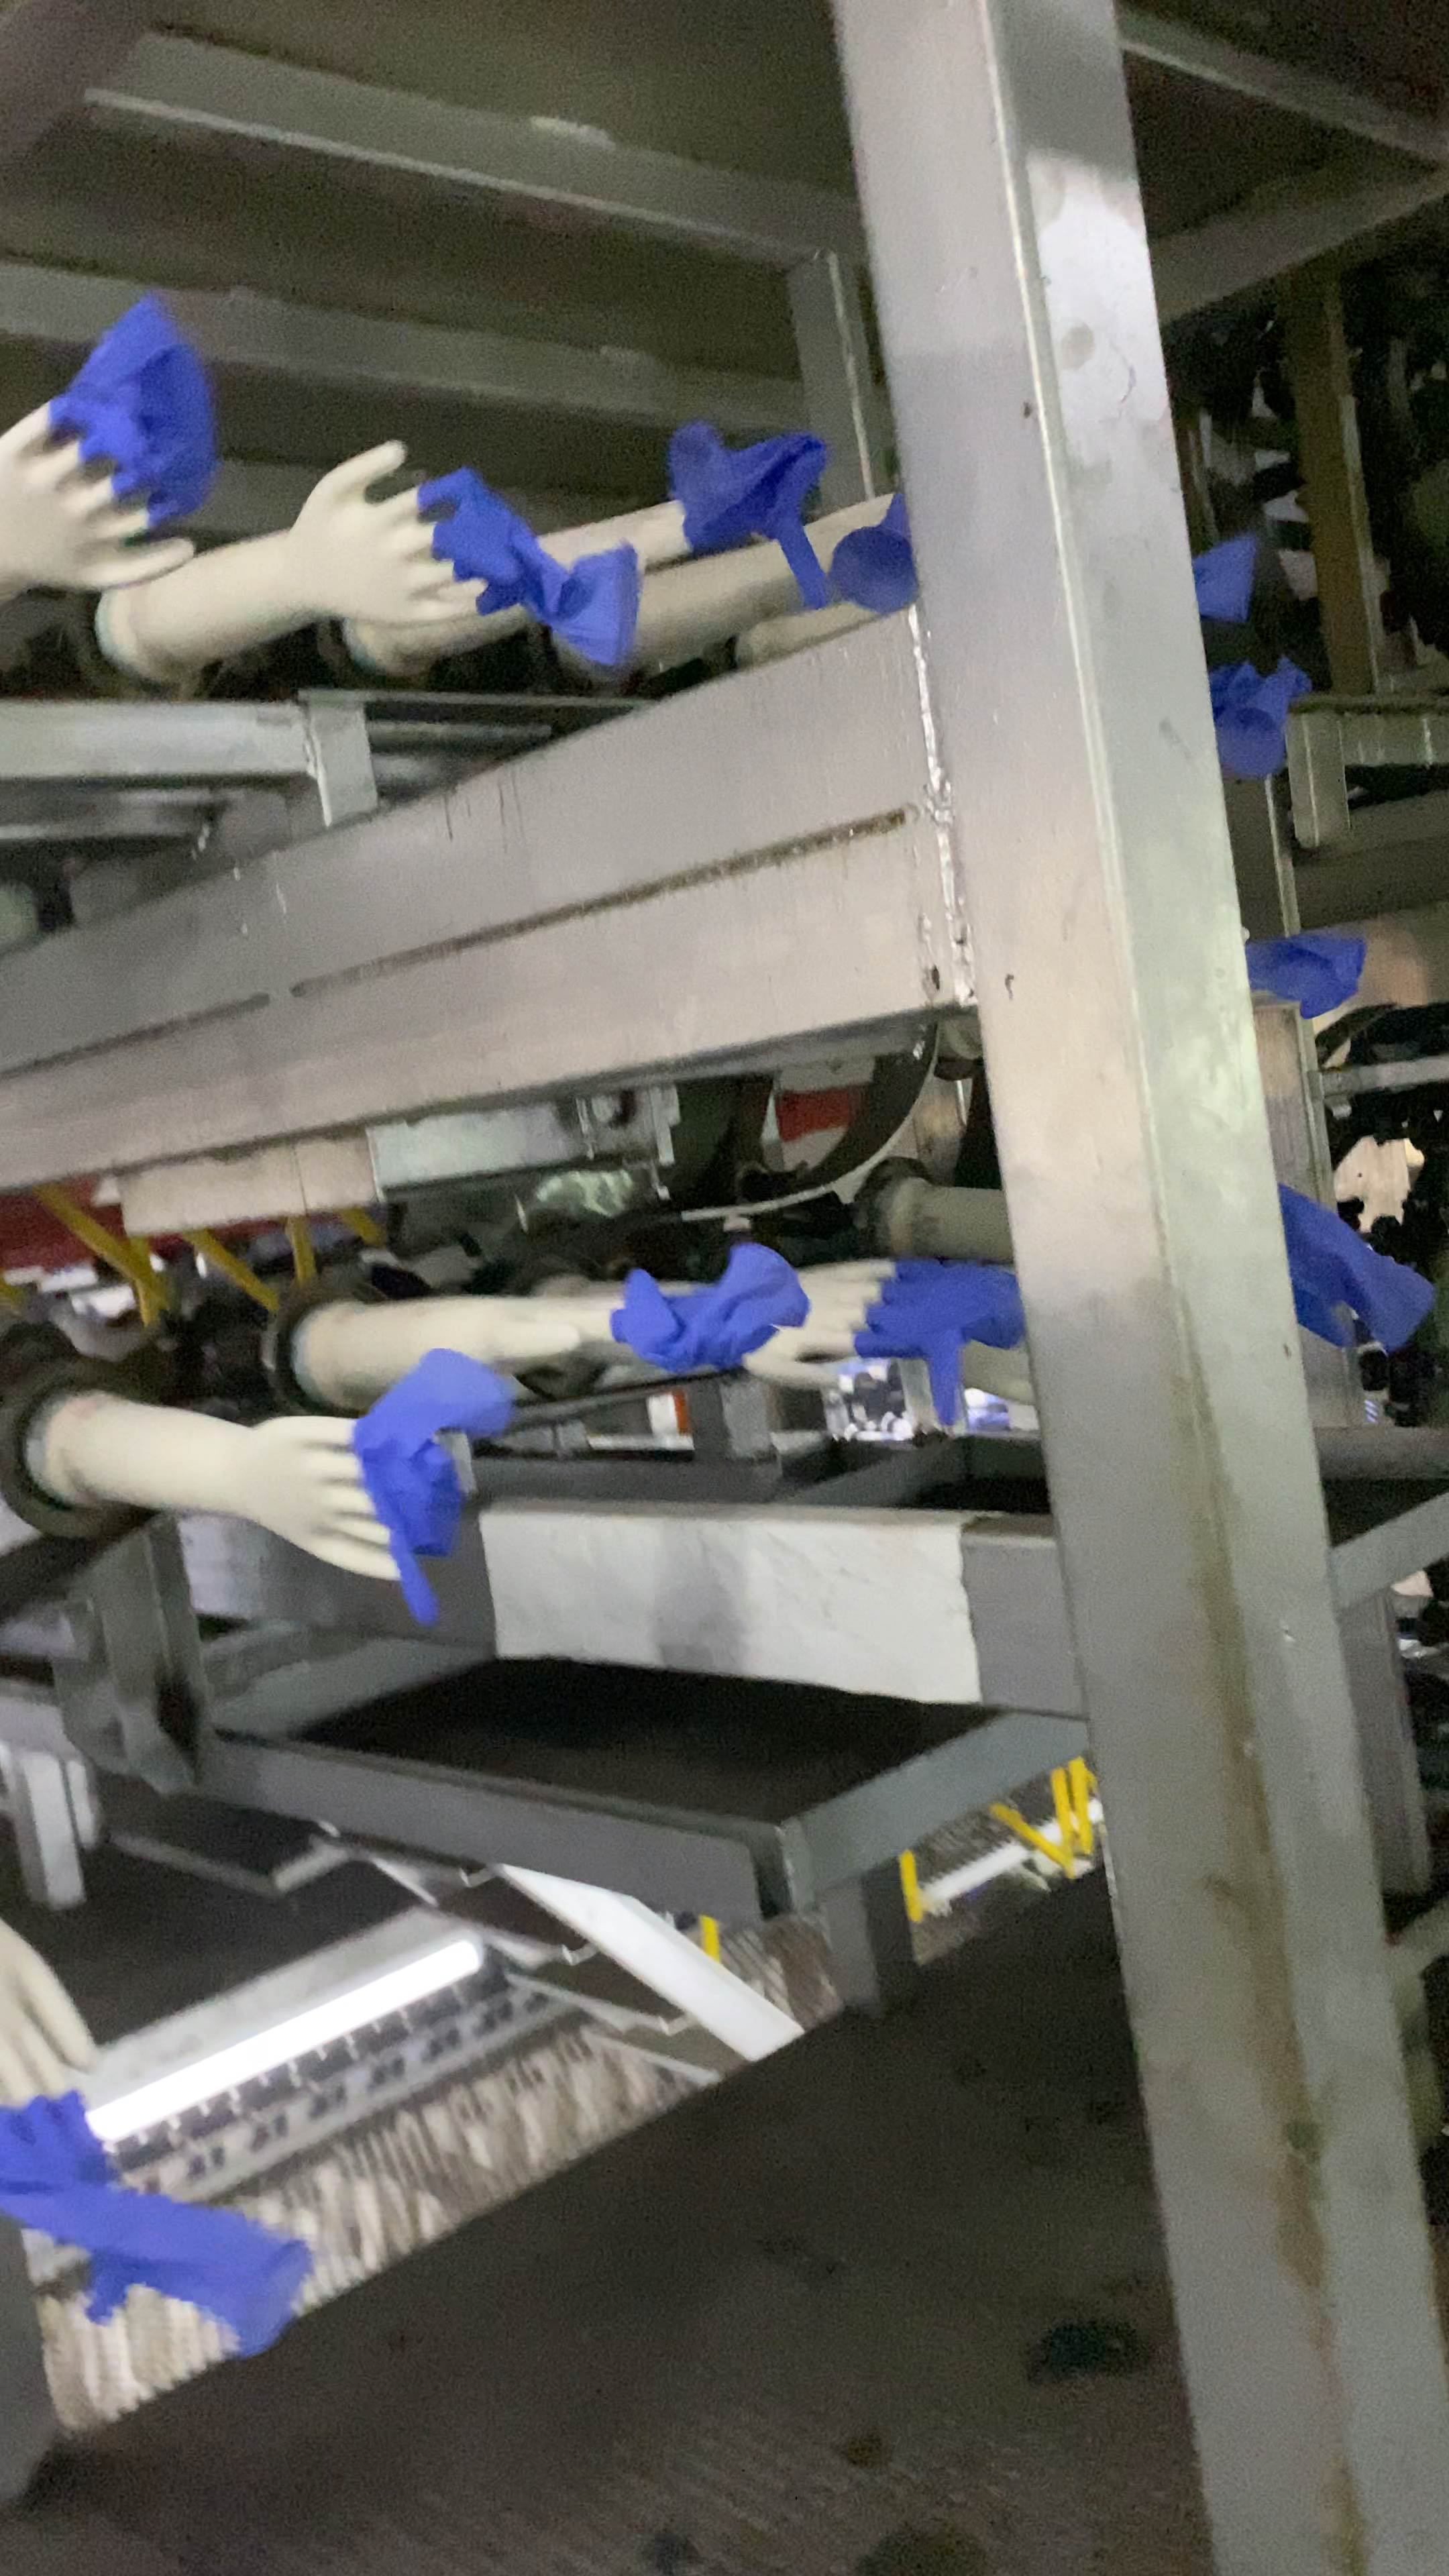glove: (0, 2091, 308, 2353), (414, 467, 639, 669), (356, 1350, 508, 1621), (51, 308, 211, 515), (669, 421, 824, 602), (855, 1258, 1024, 1421), (1274, 1182, 1437, 1346), (612, 1244, 809, 1371), (1201, 656, 1311, 773), (1242, 931, 1366, 1019), (833, 488, 915, 614), (1191, 533, 1254, 617)
